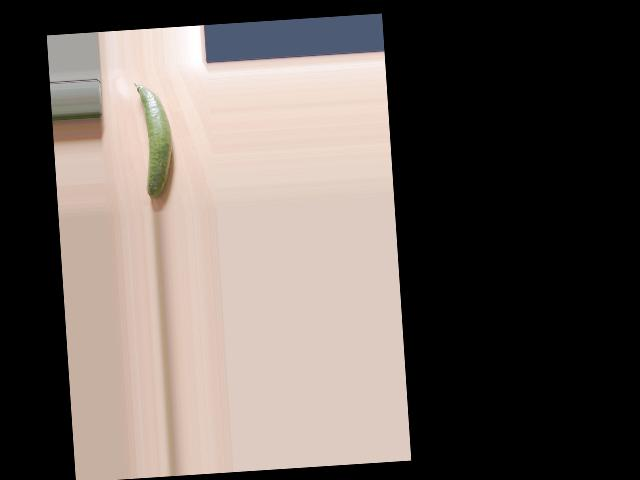cucumber: (134, 79, 176, 200)
